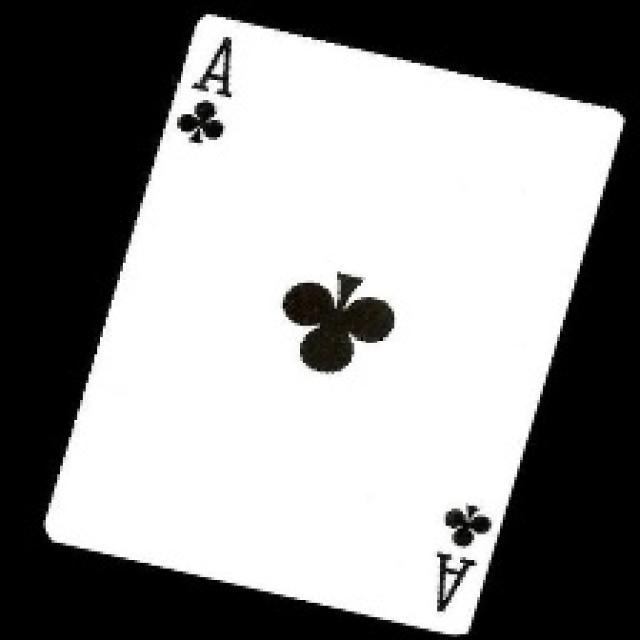Club: (281, 271, 396, 374), (445, 504, 492, 548), (177, 101, 226, 143)
